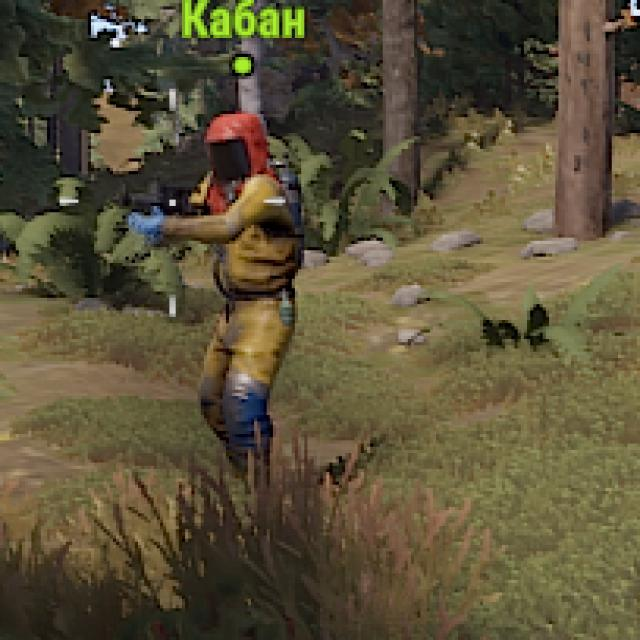Player: (172, 114, 302, 458)
